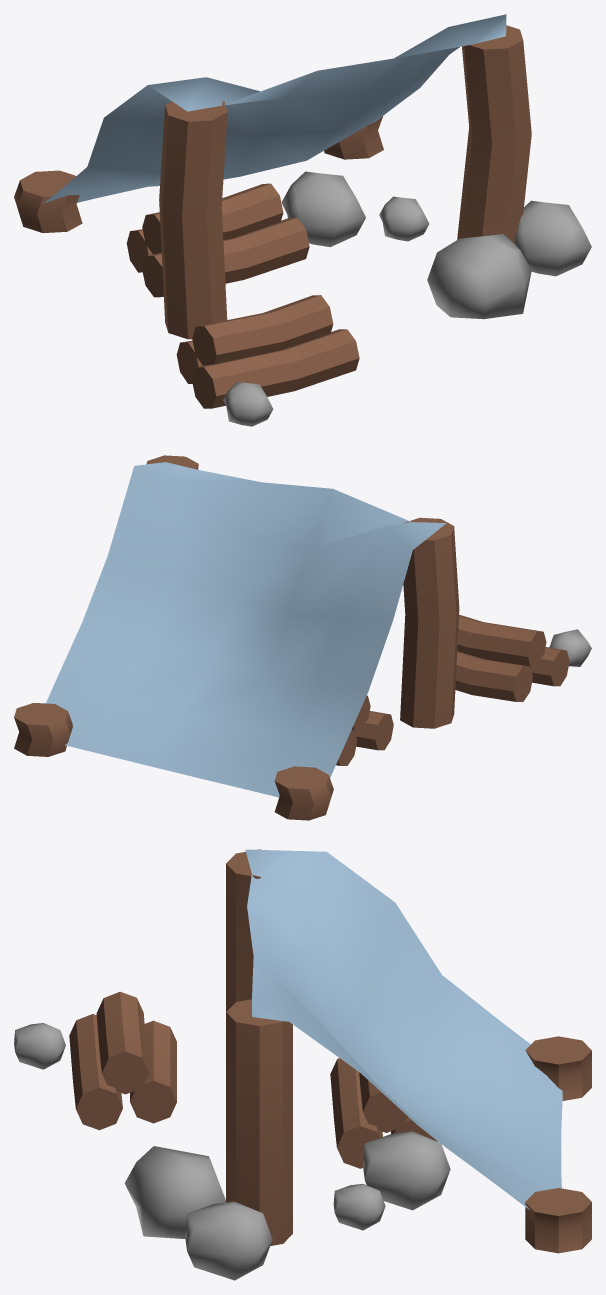
File: ResourceCache.fbx
3 renders of one model, top to bottom at view 1: azimuth 30°, elevation 25°; view 2: azimuth 150°, elevation 25°; view 3: azimuth 270°, elevation 25°, orthographic. The views are drawn at different scales.
Parts seen in each view (by area): view 1: pCylinder11, pPlane1; view 2: pPlane1, pCylinder11; view 3: pCylinder11, pPlane1.
Part boxes in pixels (x1,y1,x2,y2): pCylinder11: [14, 25, 591, 426]; pPlane1: [43, 14, 506, 203]; pPlane1: [46, 462, 446, 797]; pCylinder11: [14, 455, 591, 820]; pCylinder11: [14, 849, 591, 1280]; pPlane1: [245, 849, 562, 1209].
Size of the model in its own units: 5.57 by 2.99 by 6.09.
